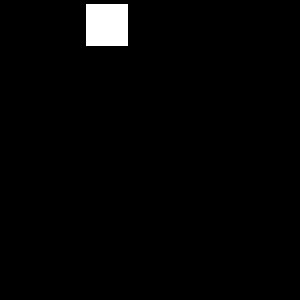circle: (86, 4, 128, 46)
